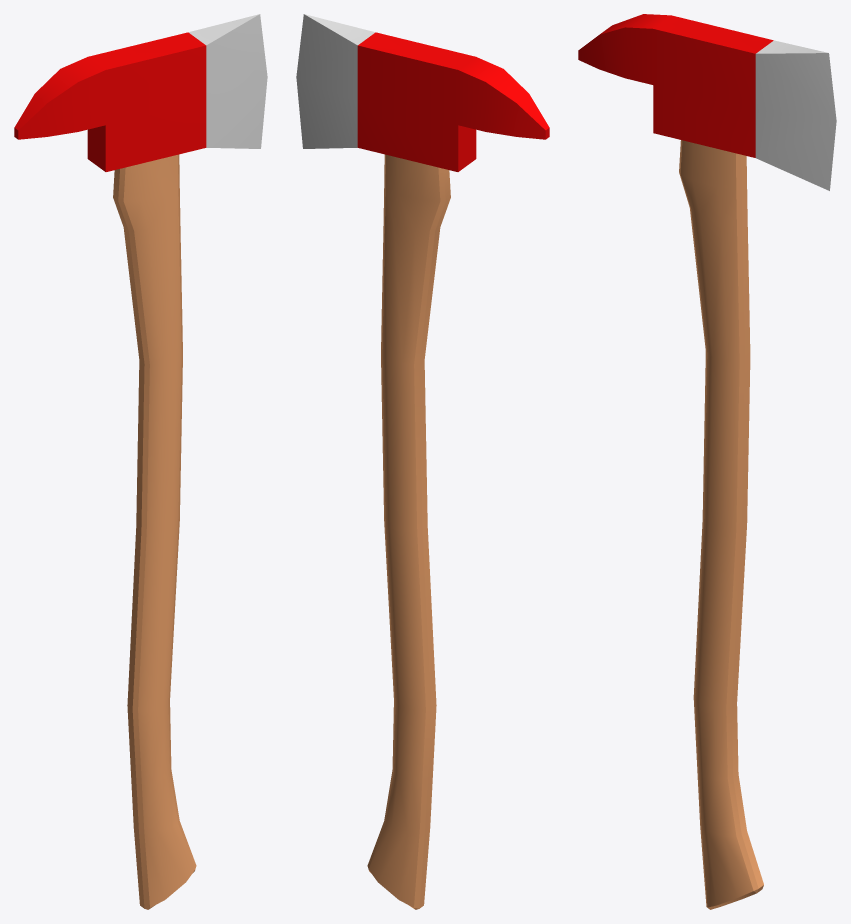
Rendered from Axe.fbx.
3 renders of one model, left to right at view 1: azimuth 30°, elevation 25°; view 2: azimuth 150°, elevation 25°; view 3: azimuth 330°, elevation 25°, orthographic.
Parts seen in each view (by area): view 1: Axe_01; view 2: Axe_01; view 3: Axe_01.
Boxes of the visible parts, bbox=[...] form: Axe_01: bbox=[14, 14, 267, 909]; Axe_01: bbox=[296, 14, 549, 909]; Axe_01: bbox=[578, 14, 836, 909].
Bounding box in the file's own units: 0.1243 × 0.4096 × 0.0154.
